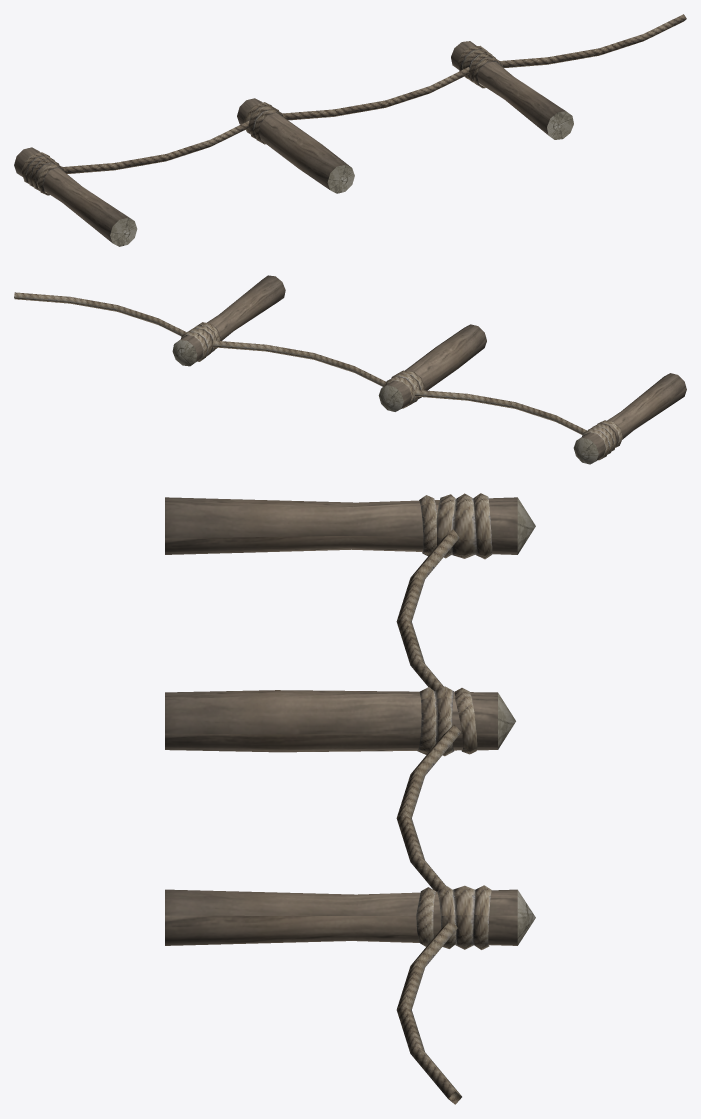
The model's file is Fence_Type_01_C.fbx.
3 renders of one model, top to bottom at view 1: azimuth 30°, elevation 25°; view 2: azimuth 150°, elevation 25°; view 3: azimuth 270°, elevation 25°, orthographic. The views are drawn at different scales.
Parts seen in each view (by area): view 1: Fence_Type_01_C; view 2: Fence_Type_01_C; view 3: Fence_Type_01_C.
Part boxes in pixels (bbox=[...]): Fence_Type_01_C: bbox=[14, 14, 686, 246]; Fence_Type_01_C: bbox=[14, 275, 686, 464]; Fence_Type_01_C: bbox=[165, 493, 535, 1104].
Bounding box in the file's own units: 6.05 × 0.2942 × 1.61.
